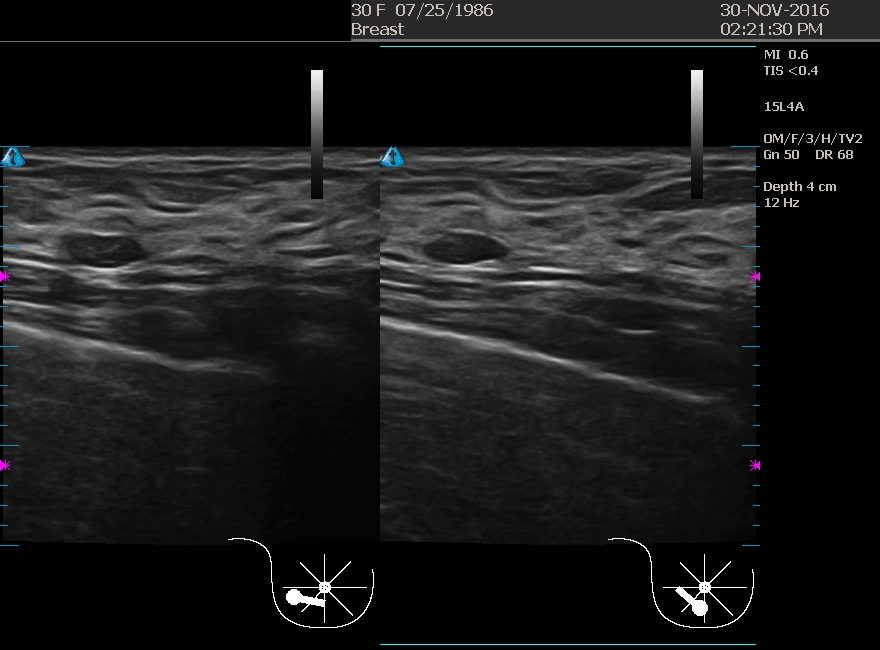Benign: (25, 155, 225, 355), (394, 180, 594, 380)
